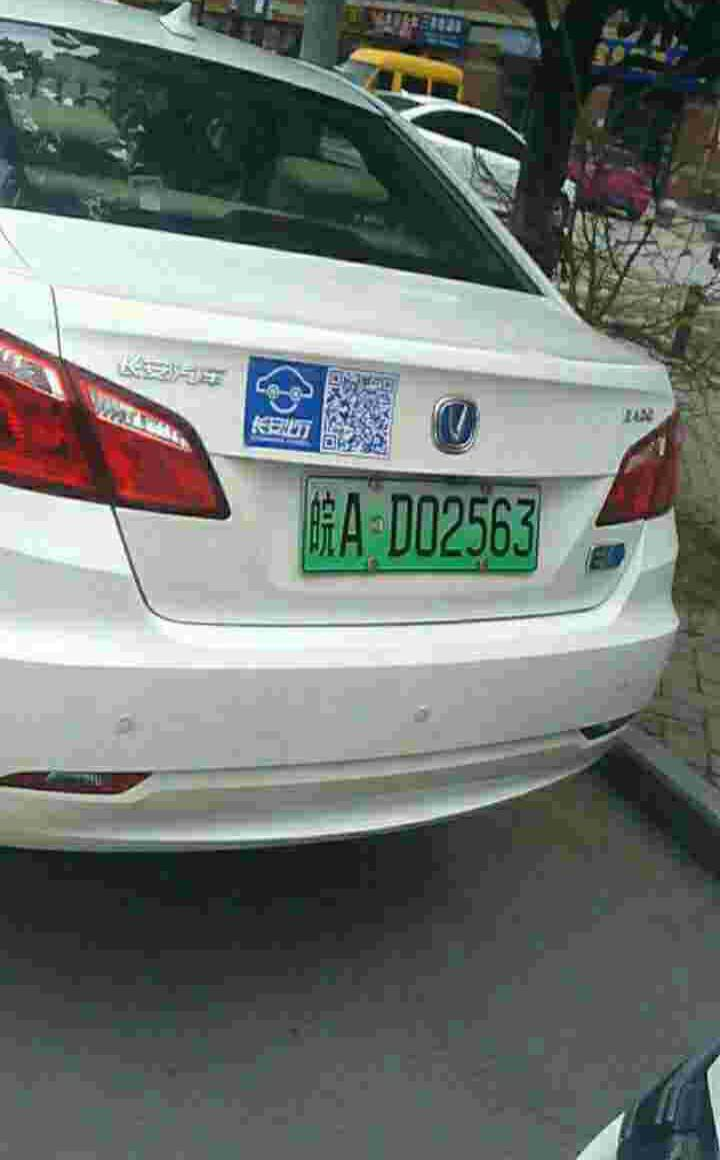car_green: (294, 475, 547, 575)
